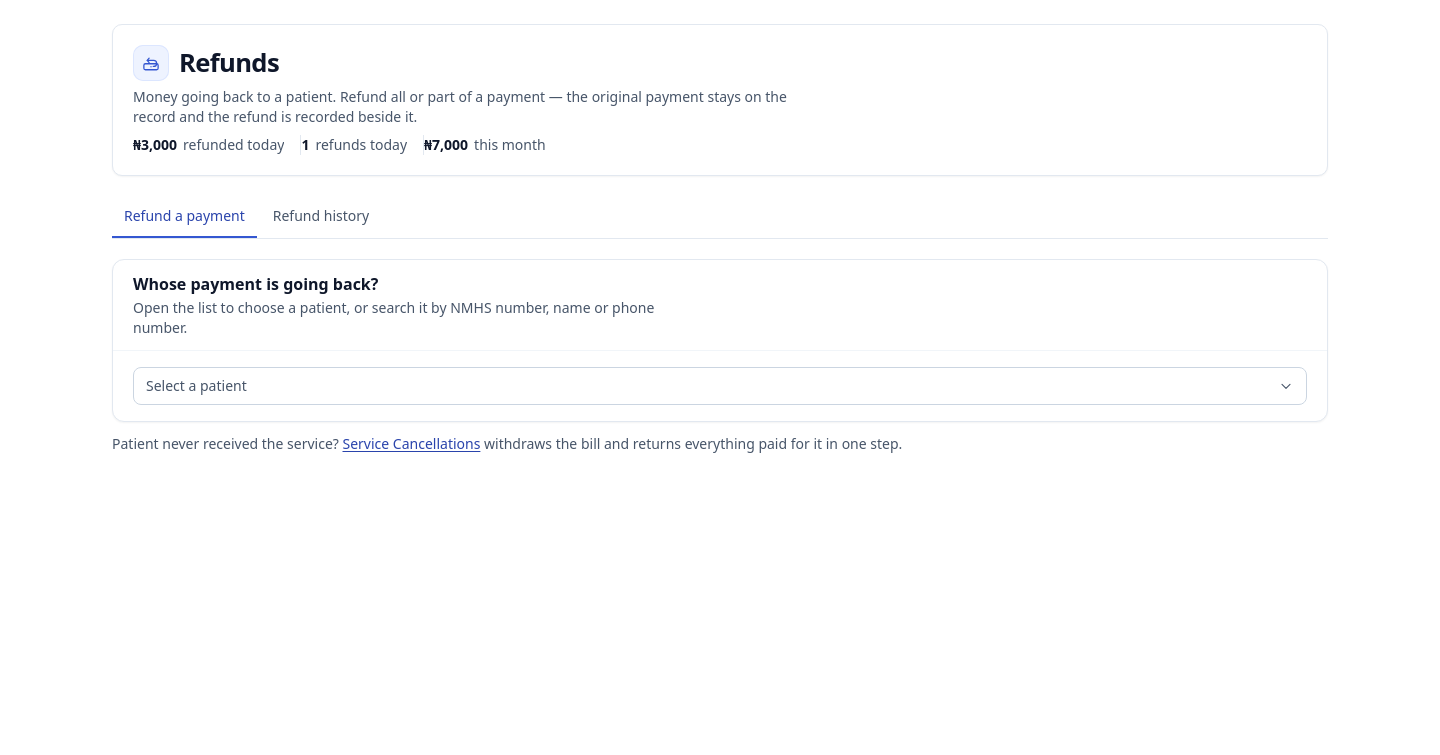
Test case: a patient's payments › lists each payment with what arrived, what went back and what is left
The width and height of the screenshot is (1440, 755).
Click the button "Select a patient" at {"x": 196, "y": 386}, box [133,367,1307,405]
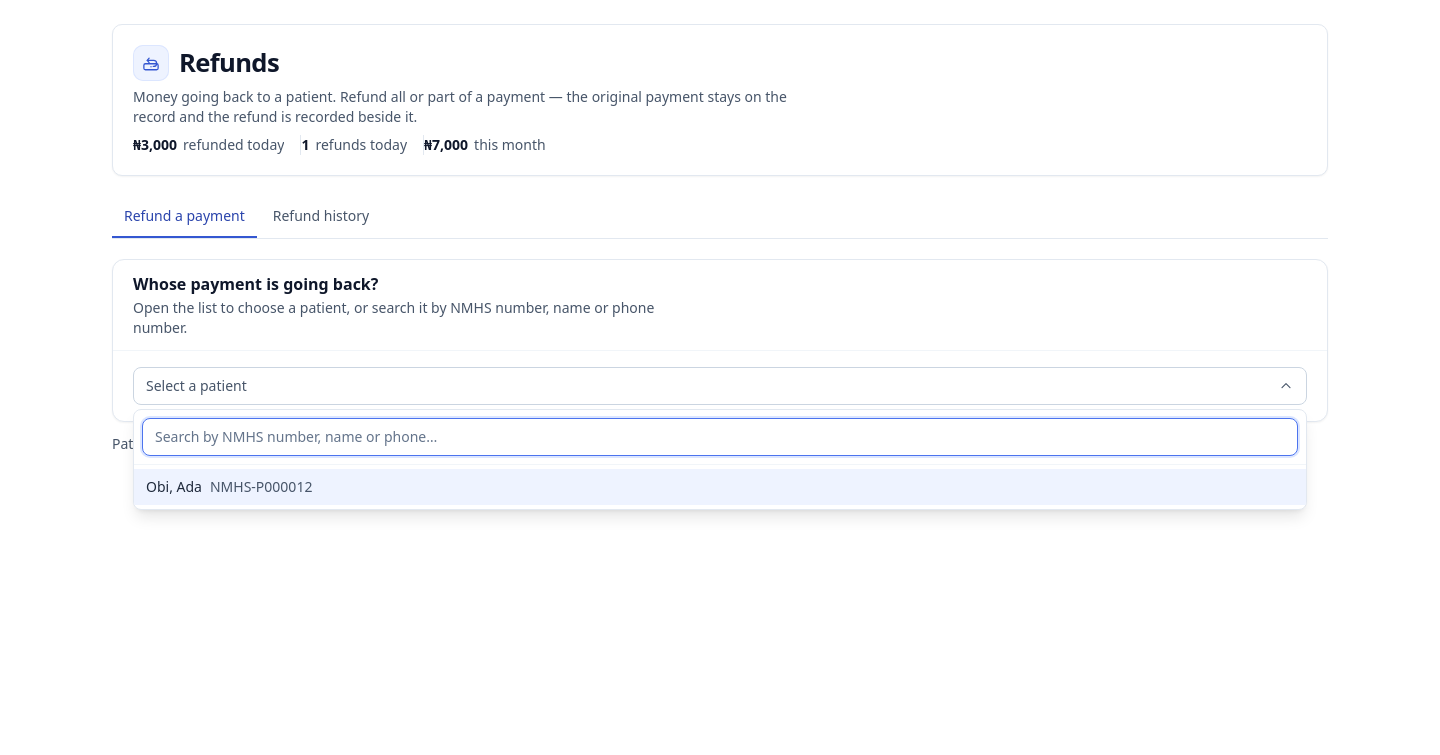
Click the option "Obi, Ada" at {"x": 174, "y": 486}, box [134,469,1306,505]
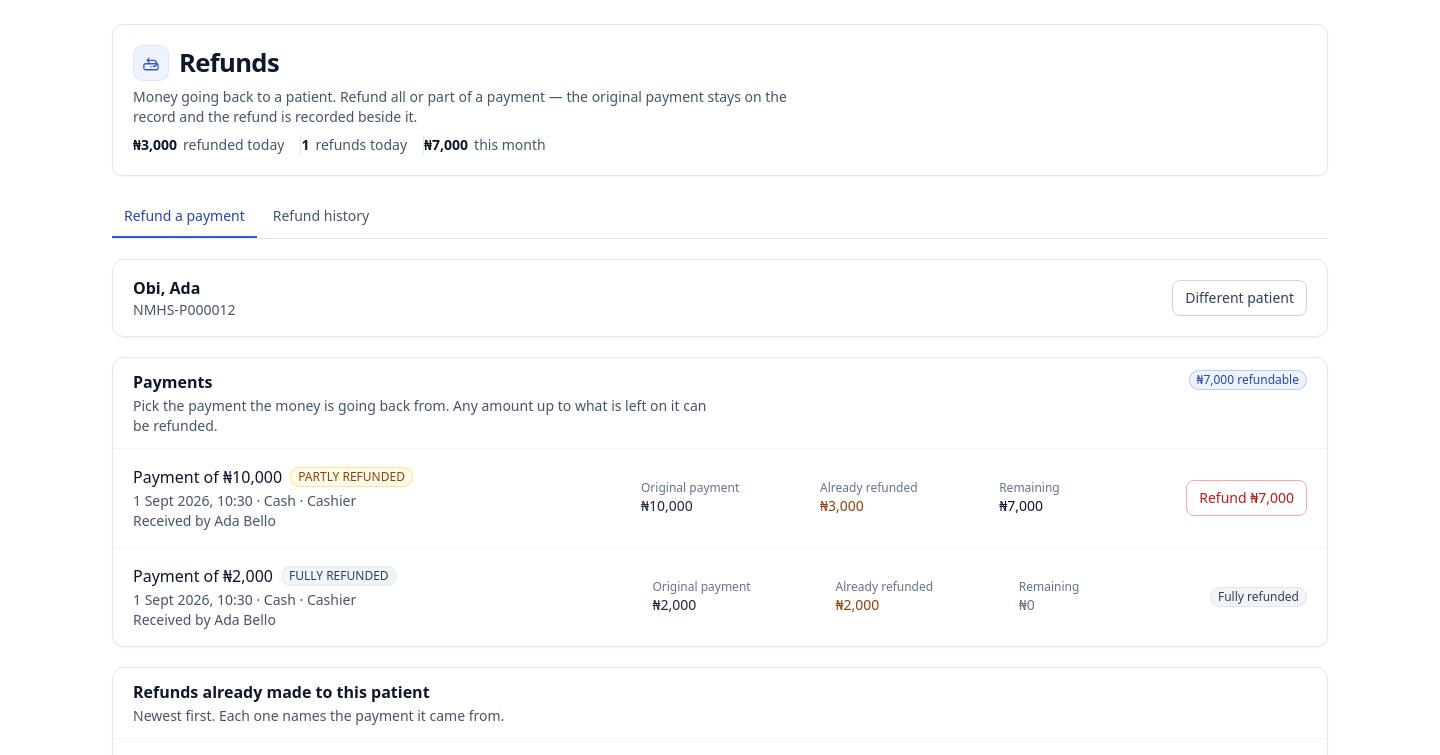
Expected: the text "Payment of ₦10,000" is shown, [133,465,282,489]
Expected: the text "PARTLY REFUNDED" is shown, [290,467,413,487]
Expected: the text "₦10,000" is shown, [641,496,693,515]
